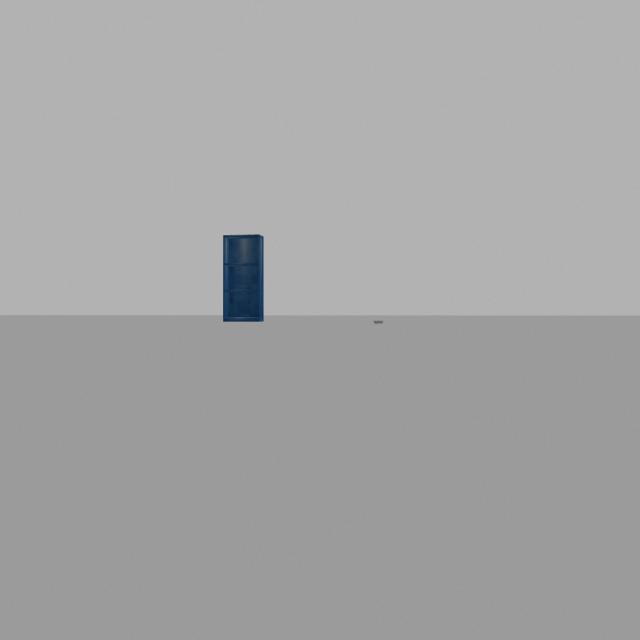bowl: (369, 318, 395, 335)
shelf: (207, 222, 277, 358)
